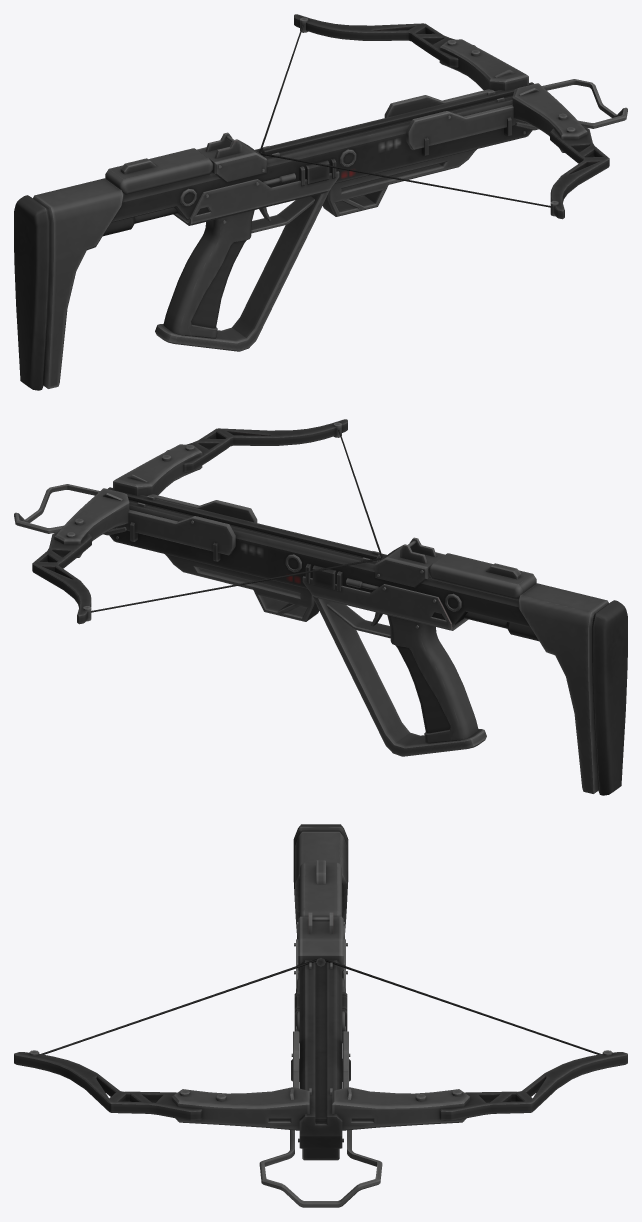
3 views of the same model, one above another, from view 1: azimuth 30°, elevation 25°; view 2: azimuth 150°, elevation 25°; view 3: azimuth 270°, elevation 25° (orthographic). The views are drawn at different scales.
Parts seen in each view (by area): view 1: model_0; view 2: model_0; view 3: model_0.
Boxes of the visible parts, bbox=[...] form: model_0: bbox=[14, 14, 627, 390]; model_0: bbox=[14, 419, 627, 795]; model_0: bbox=[14, 824, 627, 1207].
Size of the model in its own units: 1.72 by 0.5881 by 1.36.
Materials: 1 (1 with a texture image).
